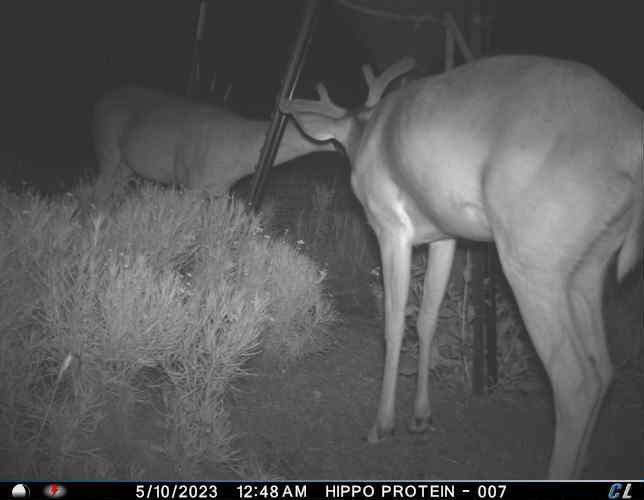Deer: (285, 53, 644, 481), (88, 81, 341, 204)
